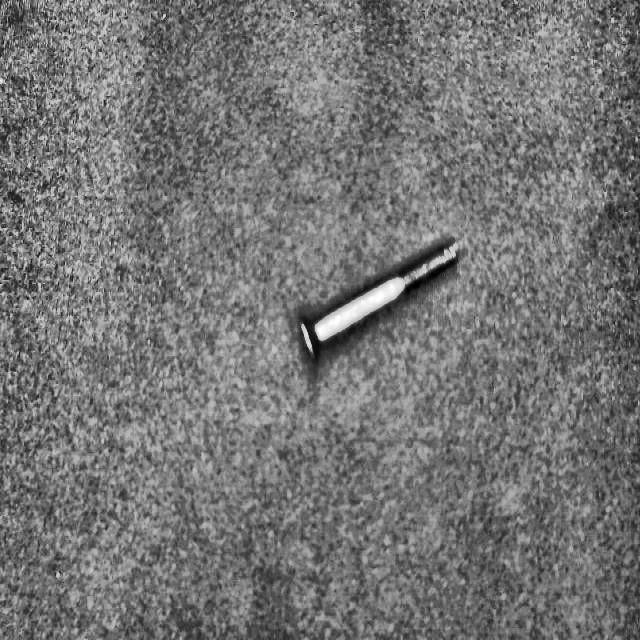Flat head socket screw: (295, 234, 462, 366)
